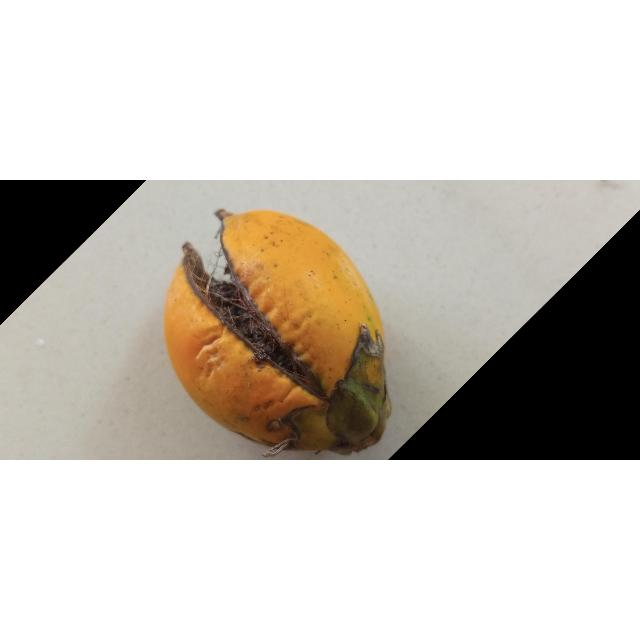damaged: (165, 210, 391, 457)
